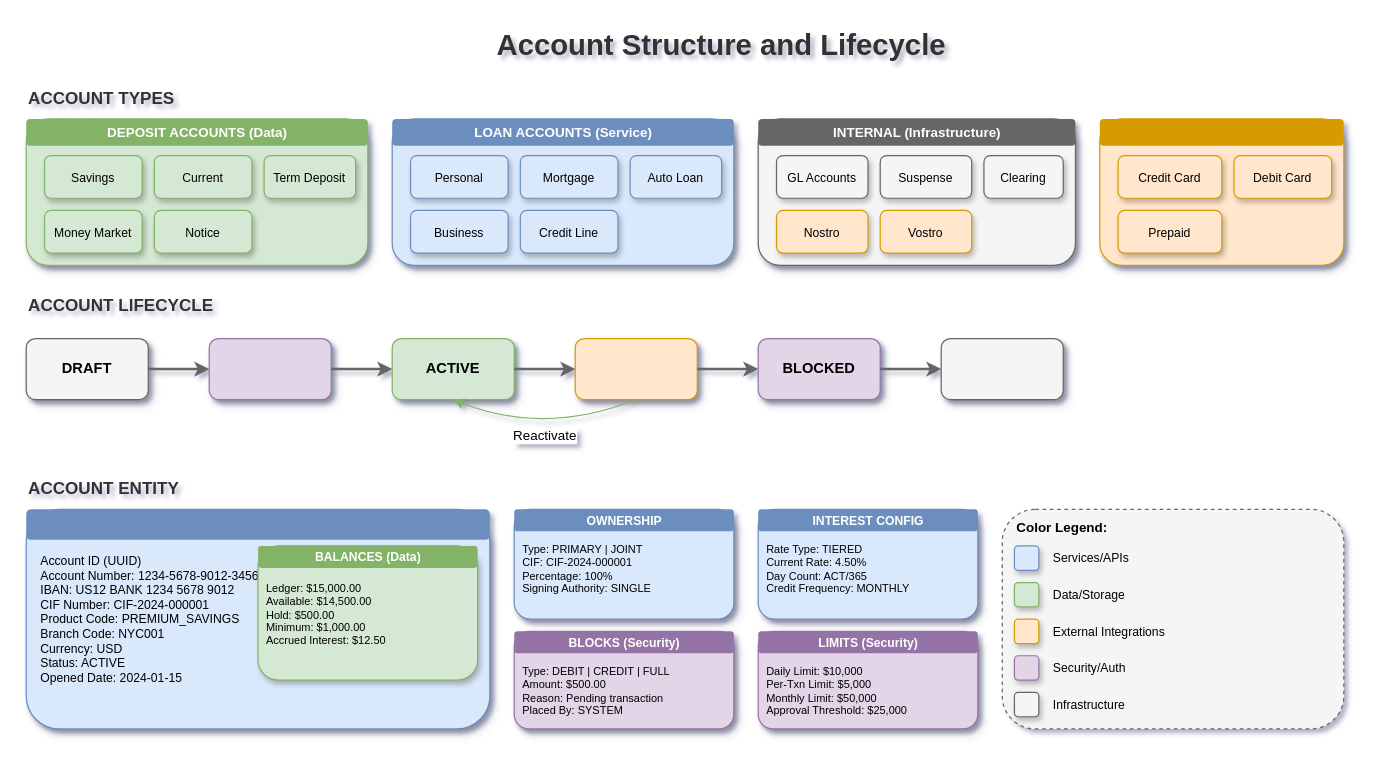
Some shapes in this 1380 by 766 pixel diagram are drawn without their labels. The shapes that lost their labels are listed below. From the top down, each one's centre as x and y in pixels, then its label:
At point 1221,131: "CARD (External)".
At point 271,370: "PENDING APPROVAL".
At point 637,370: "DORMANT".
At point 1003,370: "CLOSED".
At point 257,524: "ACCOUNT (Service)".
